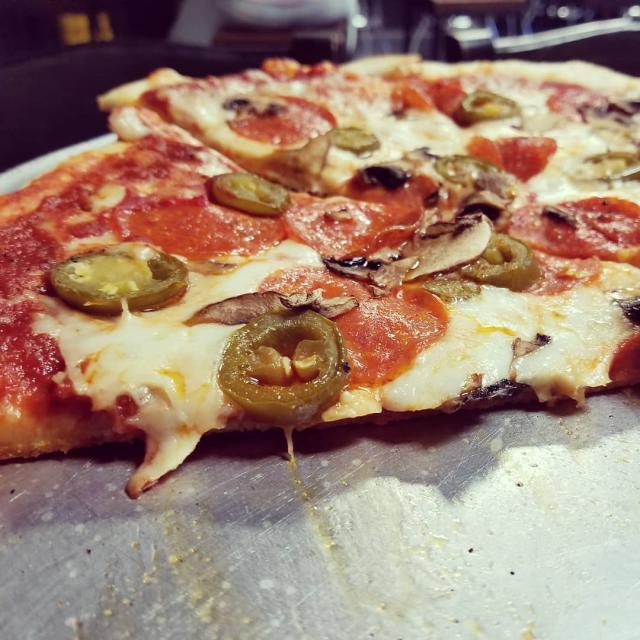mushrooms: (322, 213, 490, 296), (201, 277, 360, 326), (361, 148, 438, 185), (226, 90, 288, 126)
pepperoni: (265, 264, 454, 387), (121, 194, 283, 262), (510, 193, 640, 269), (288, 184, 422, 257), (227, 87, 339, 148), (466, 130, 548, 186), (391, 74, 466, 126), (614, 326, 640, 384)
pizza: (0, 56, 640, 500)
